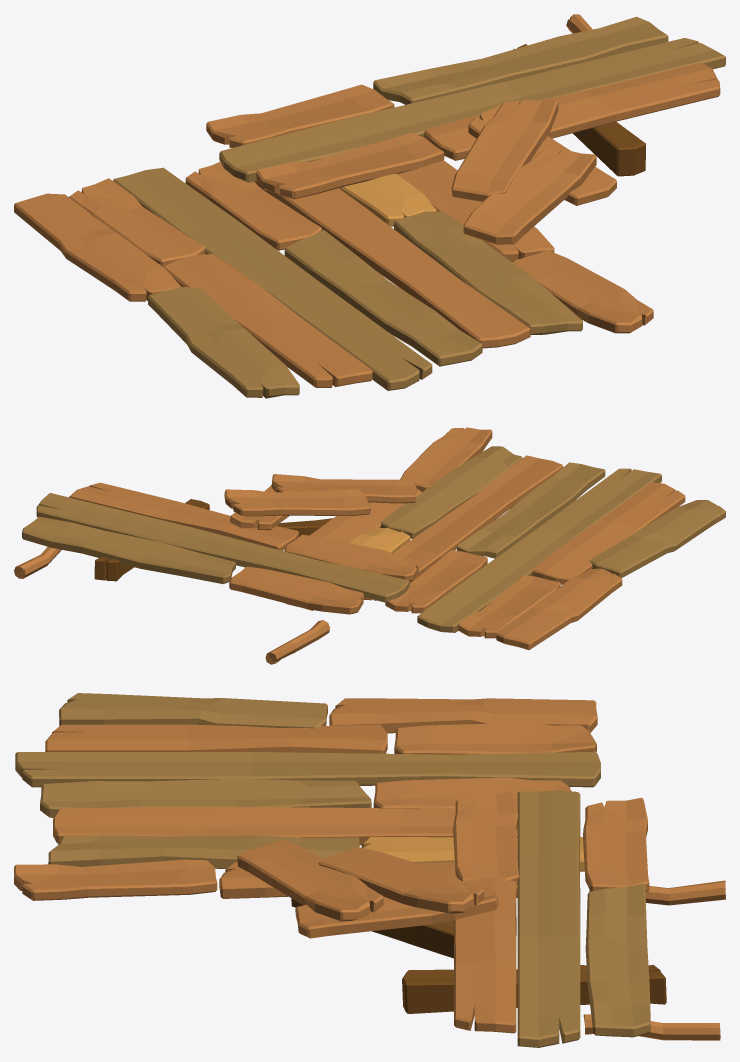
The model's file is Beach_House_G_Plank_02.fbx.
3 views of the same model, one above another, from view 1: azimuth 30°, elevation 25°; view 2: azimuth 150°, elevation 25°; view 3: azimuth 270°, elevation 25° (orthographic). The views are drawn at different scales.
Visible parts, largest first — view 1: Beach_House_G_Plank_02; view 2: Beach_House_G_Plank_02; view 3: Beach_House_G_Plank_02.
Part boxes in pixels (box(x1,y1,x2,y2)): Beach_House_G_Plank_02: box(14, 14, 725, 398); Beach_House_G_Plank_02: box(14, 427, 725, 664); Beach_House_G_Plank_02: box(14, 693, 725, 1047).
Bounding box in the file's own units: 11.62 × 1.54 × 9.87.
